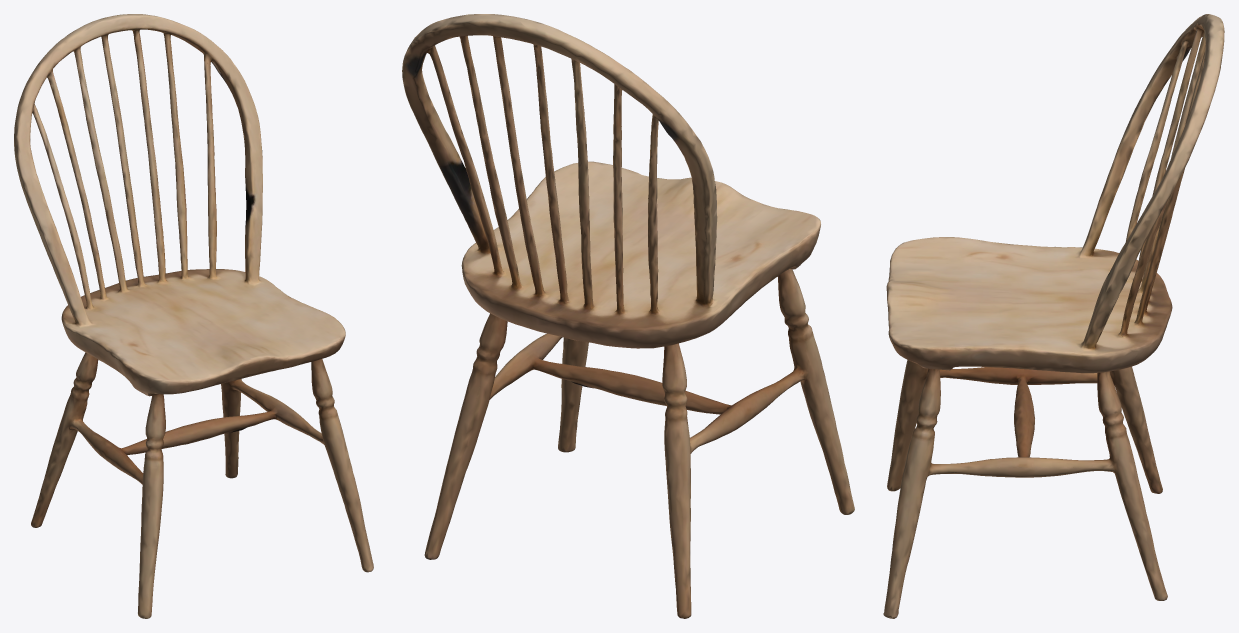
The picture shows the model from 3 angles, left to right: view 1: azimuth 30°, elevation 25°; view 2: azimuth 150°, elevation 25°; view 3: azimuth 270°, elevation 25°; orthographic projection. The views are drawn at different scales.
Visible parts, largest first — view 1: Mesh_0; view 2: Mesh_0; view 3: Mesh_0.
Part boxes in pixels (bbox=[...]): Mesh_0: bbox=[14, 14, 373, 618]; Mesh_0: bbox=[402, 14, 854, 618]; Mesh_0: bbox=[883, 14, 1224, 618].
Size of the model in its own units: 0.4819 by 0.92 by 0.5413.
Materials: 1 (1 with a texture image).
